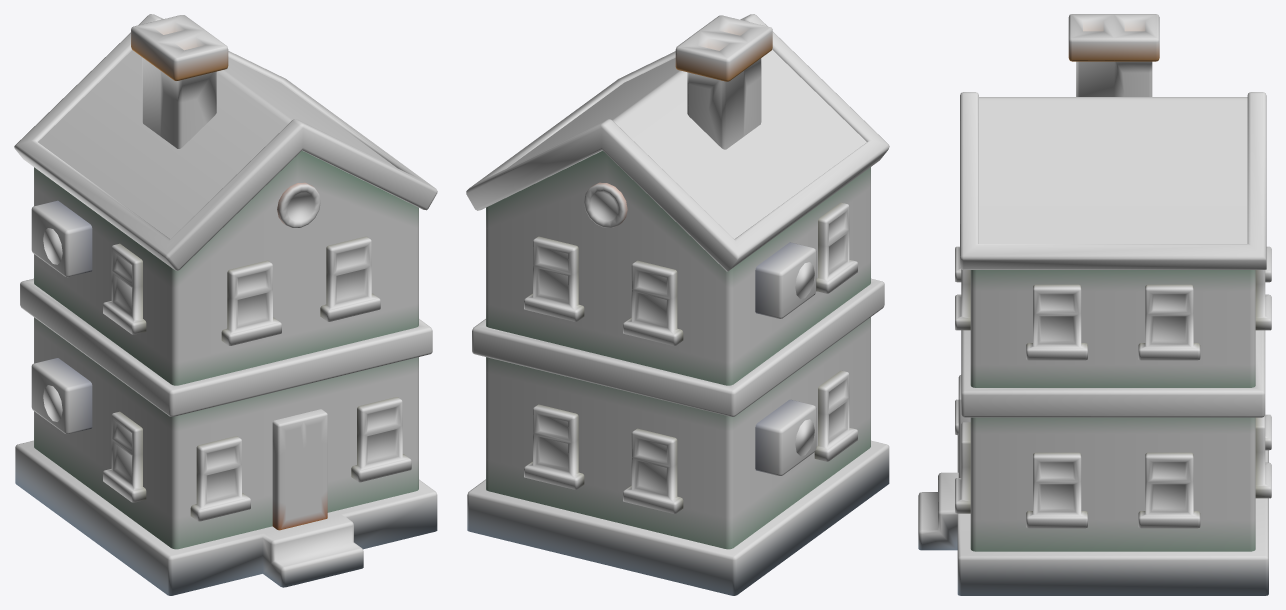
The model's file is Building_038.fbx.
The picture shows the model from 3 angles, left to right: view 1: azimuth 30°, elevation 25°; view 2: azimuth 150°, elevation 25°; view 3: azimuth 270°, elevation 25°; orthographic projection.
Parts seen in each view (by area): view 1: Building_038; view 2: Building_038; view 3: Building_038.
Part boxes in pixels (bbox=[...]): Building_038: bbox=[14, 14, 437, 595]; Building_038: bbox=[466, 14, 889, 595]; Building_038: bbox=[918, 14, 1271, 595].
Size of the model in its own units: 698 by 743 by 1118.
